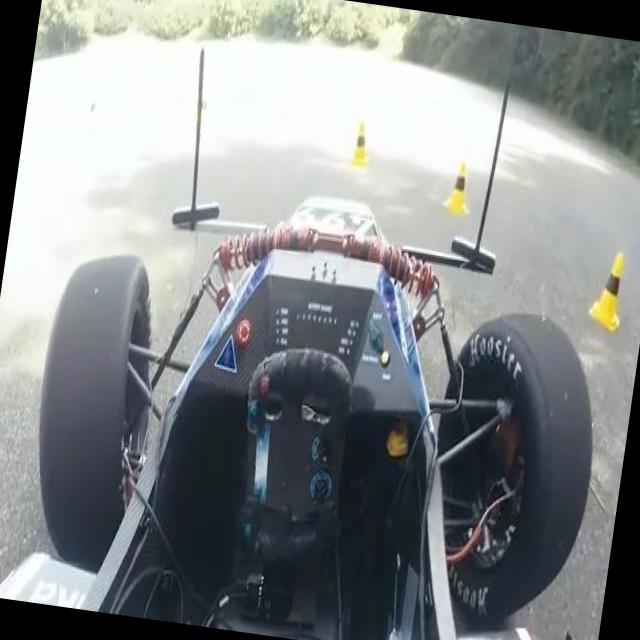Cono de seguridad: (576, 227, 640, 330), (440, 148, 480, 224), (339, 110, 380, 163)
vehiculo: (0, 16, 640, 640)
